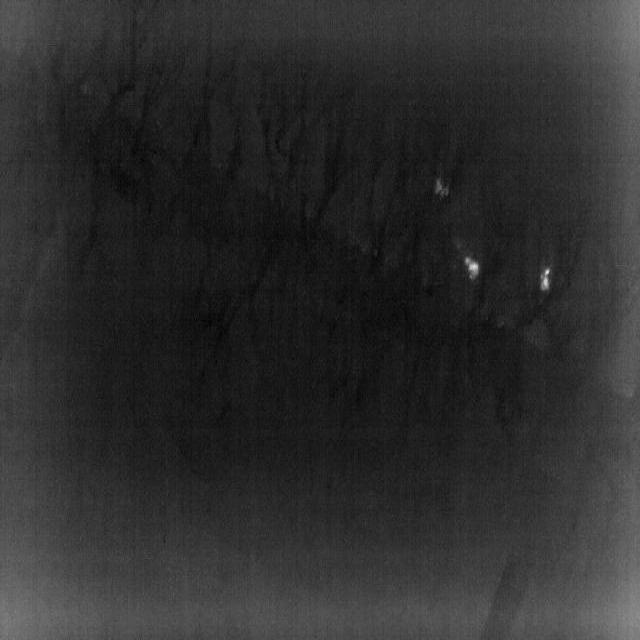deer: (464, 256, 480, 281), (540, 268, 550, 291)
